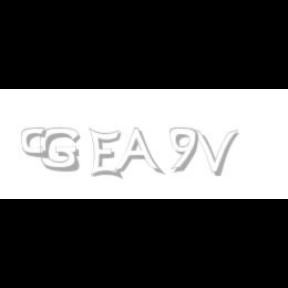9: (170, 128, 198, 172)
A: (113, 128, 161, 176)
E: (88, 128, 122, 180)
G: (40, 128, 80, 172)
V: (191, 128, 239, 176)
c: (20, 128, 50, 160)
